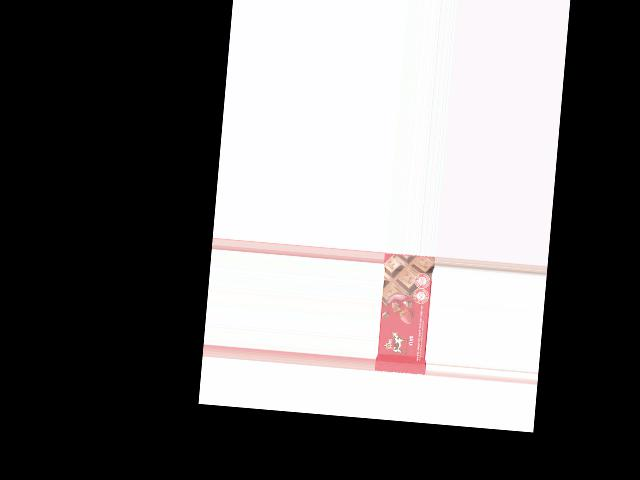chocolate: (375, 253, 435, 375)
